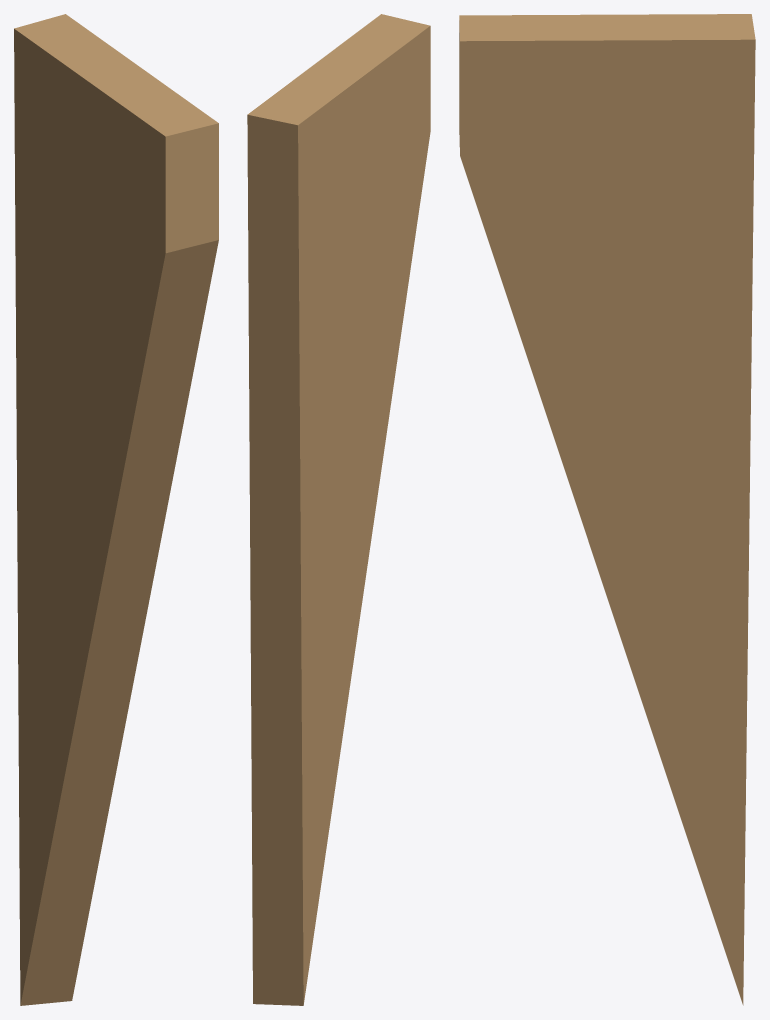
The model's file is original-6.obj.
3 renders of one model, left to right at view 1: azimuth 30°, elevation 25°; view 2: azimuth 150°, elevation 25°; view 3: azimuth 270°, elevation 25°, orthographic. The views are drawn at different scales.
Visible parts, largest first — view 1: mesh34/mesh34-geometry#mesh34-geometry; view 2: mesh34/mesh34-geometry#mesh34-geometry; view 3: mesh34/mesh34-geometry#mesh34-geometry.
Boxes of the visible parts, left/top/right/bottom form: mesh34/mesh34-geometry#mesh34-geometry: left=14, top=14, right=218, bottom=1005; mesh34/mesh34-geometry#mesh34-geometry: left=247, top=14, right=430, bottom=1005; mesh34/mesh34-geometry#mesh34-geometry: left=459, top=14, right=755, bottom=1005.
Bounding box in the file's own units: 0.0163 × 0.2696 × 0.0749.
